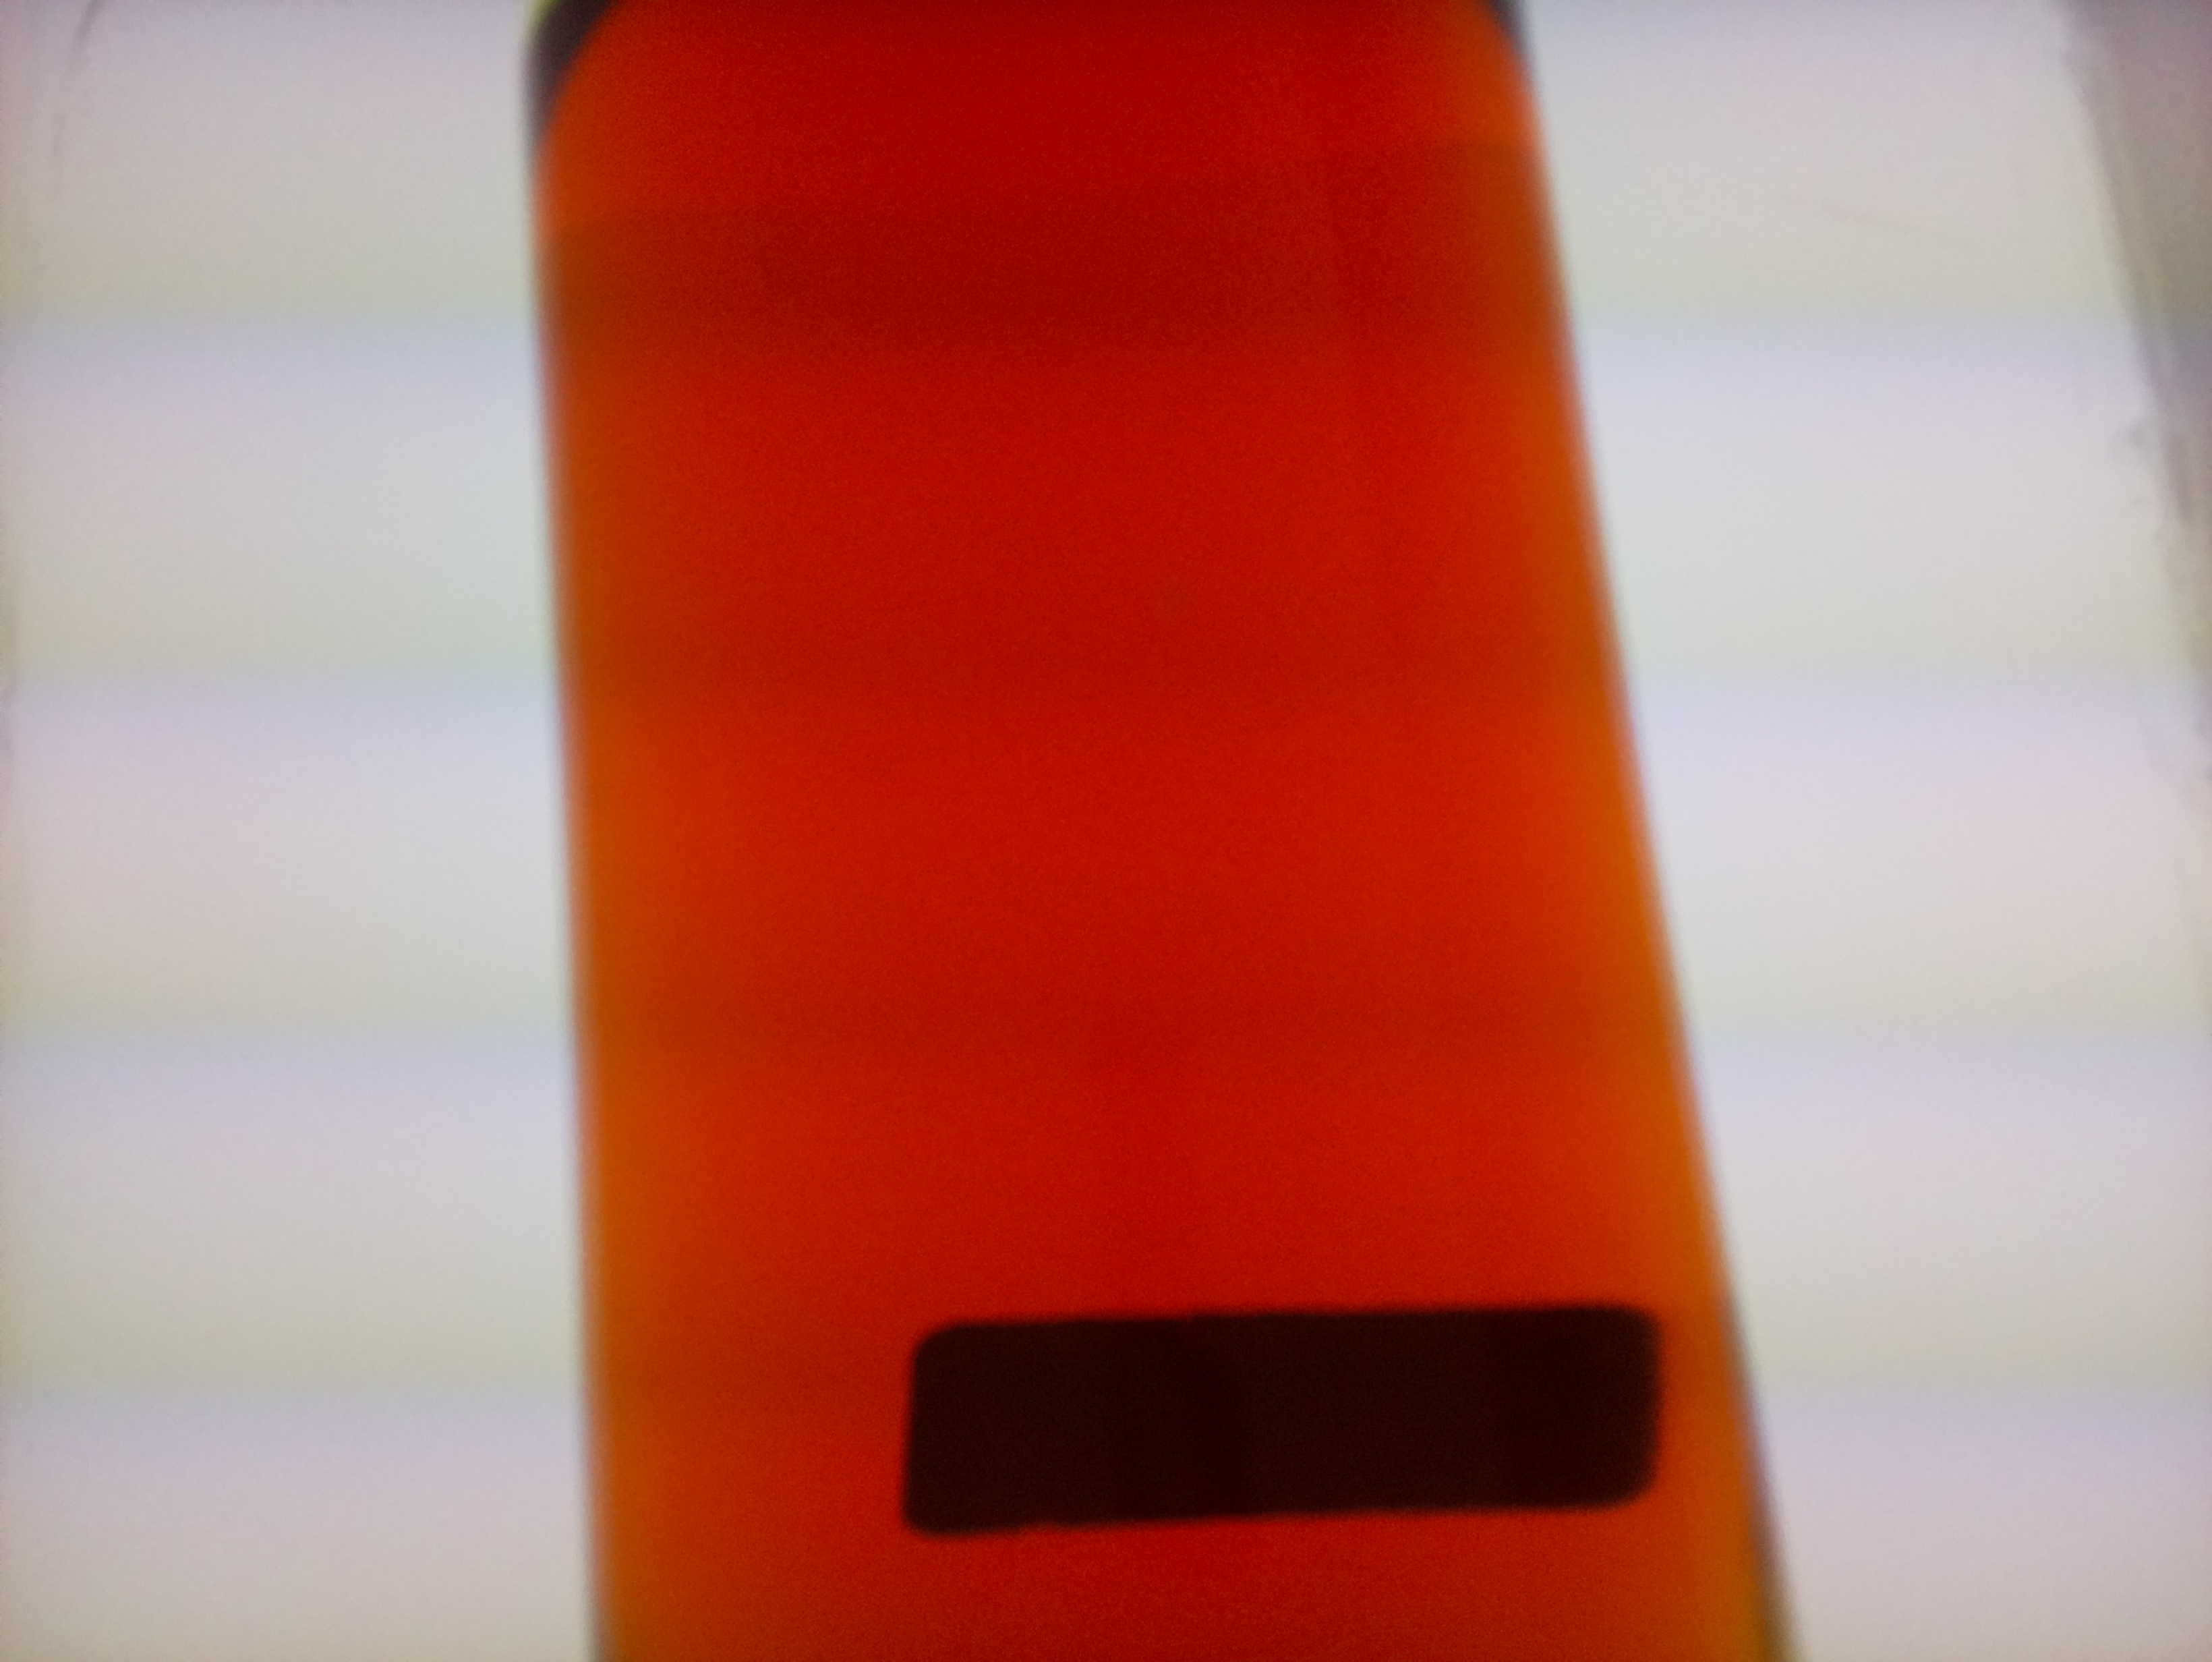colored_area: (545, 10, 1781, 1648)
